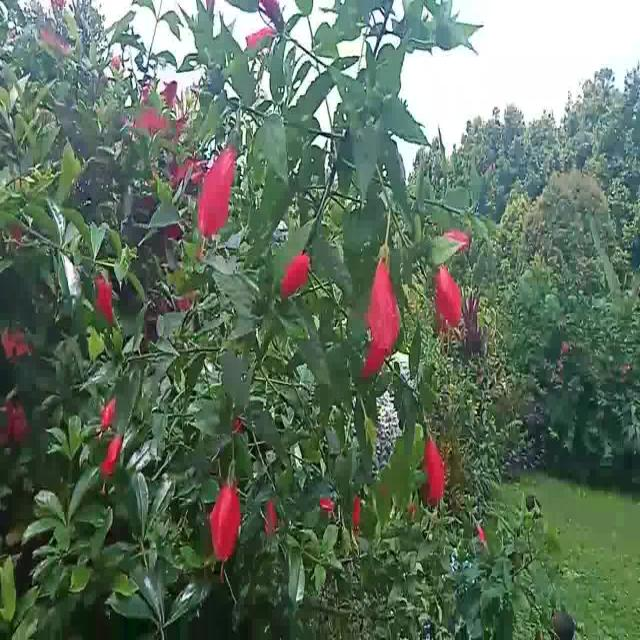Flower: (195, 124, 245, 242), (433, 229, 471, 335), (370, 249, 400, 379), (211, 462, 241, 562), (418, 423, 448, 516), (280, 240, 312, 309)
